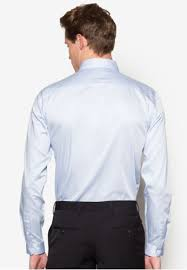F_shirt: (19, 57, 171, 258)
